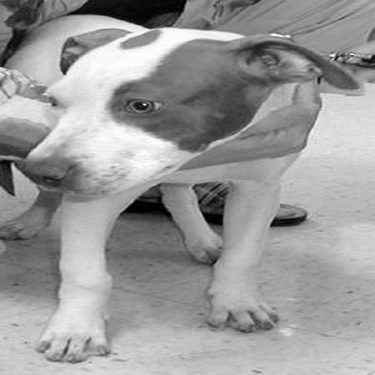dog: (4, 12, 370, 364)
